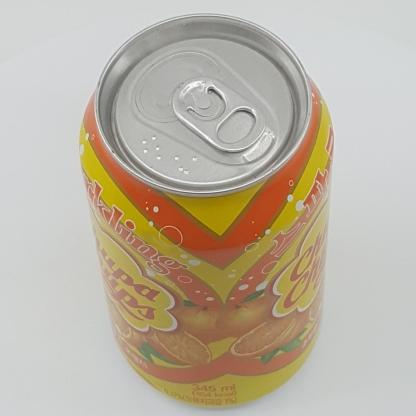----------345ML: (78, 13, 334, 408)
